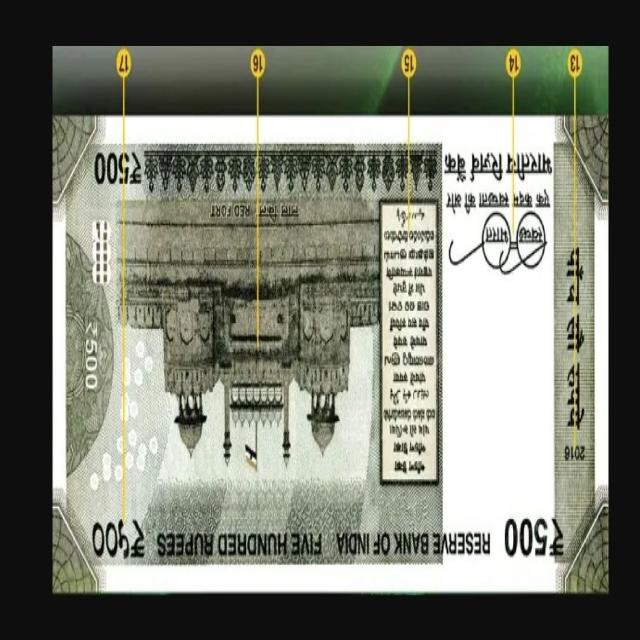500IndianRupees: (51, 118, 607, 590)
